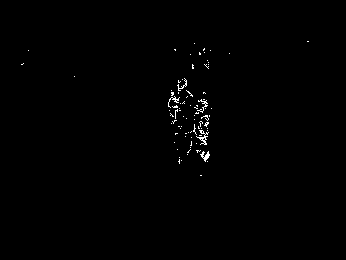person: (167, 77, 194, 162), (192, 92, 214, 163)
